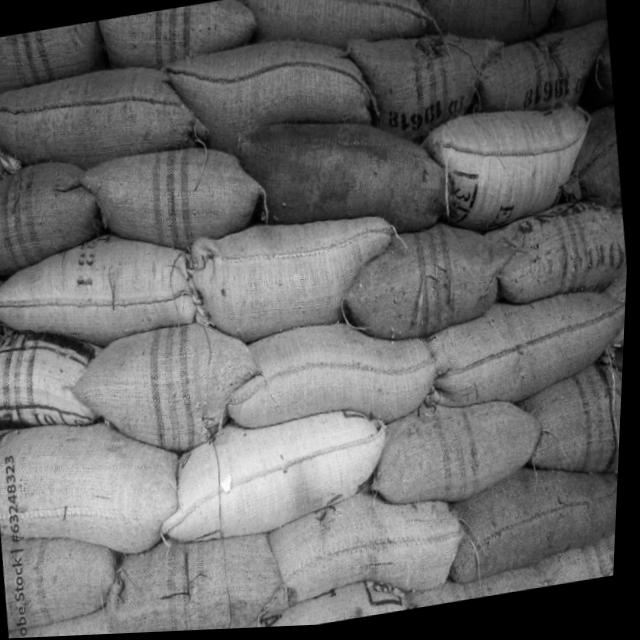sack: (230, 98, 458, 259), (154, 407, 400, 550), (66, 313, 276, 471), (0, 404, 193, 573), (187, 207, 406, 355), (220, 309, 446, 451), (0, 222, 205, 364), (158, 30, 383, 158), (267, 482, 475, 615), (419, 290, 629, 419), (0, 56, 213, 183), (337, 215, 529, 351), (75, 135, 270, 268), (420, 100, 601, 242), (443, 457, 623, 588), (343, 16, 513, 153), (368, 394, 552, 516), (106, 529, 294, 636), (484, 201, 632, 314), (472, 24, 616, 122), (518, 363, 627, 491), (3, 520, 129, 629), (0, 318, 114, 438), (0, 154, 108, 280), (96, 0, 260, 72), (248, 0, 431, 63), (407, 0, 579, 59), (0, 22, 101, 94)
